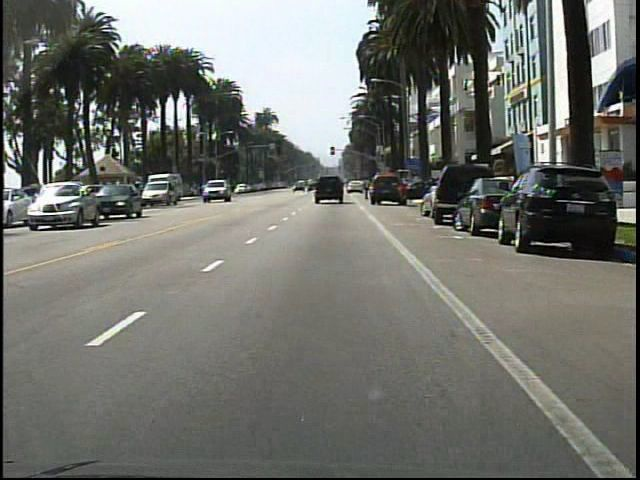person: (361, 174, 374, 203)
